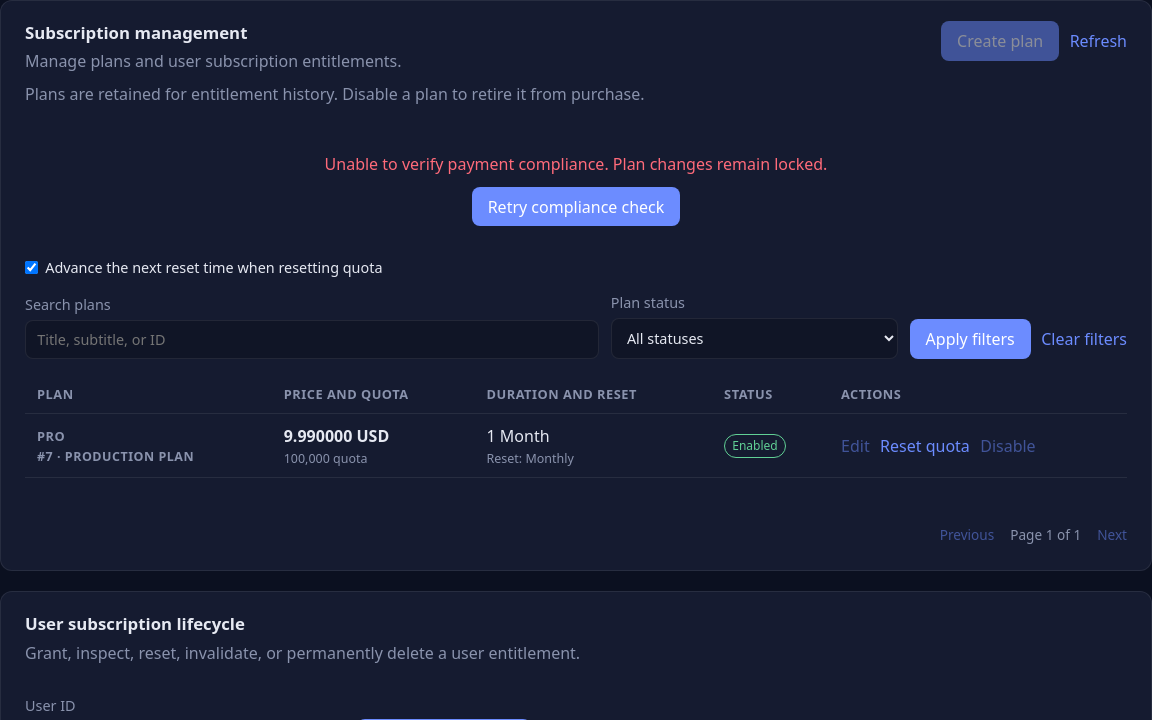
Test: SubscriptionAdminView payment compliance gate › fails closed when compliance cannot be verified and unlocks after a successful retry
Check: the text "Unable to verify payment compliance. Plan changes remain locked." is shown, box [325,153,827,175]
Check: the button "Create plan" is disabled, box [941,21,1059,61]
Click the button "Retry compliance check" at [576, 207], box [472,187,680,226]
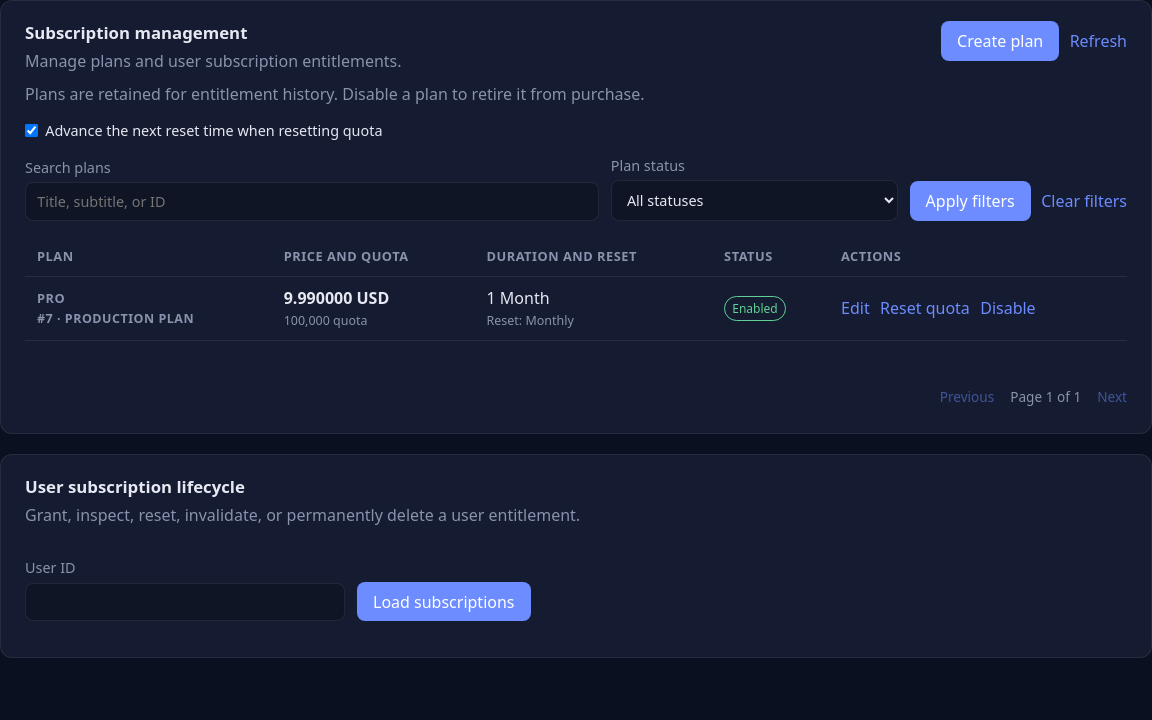
Check: the button "Create plan" is enabled, box [941,21,1059,61]
